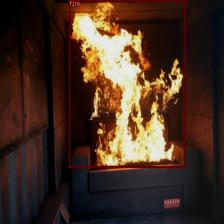fire: (68, 0, 184, 167)
